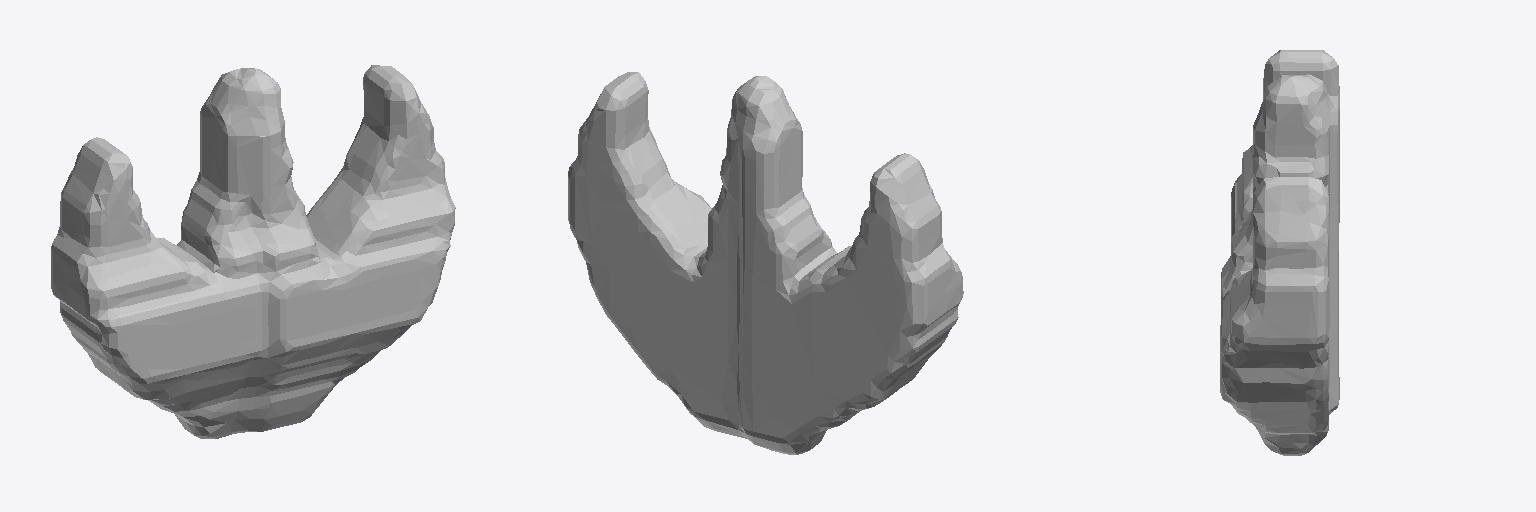
The model's file is profile.obj.
The picture shows the model from 3 angles: view 1: azimuth 30°, elevation 25°; view 2: azimuth 150°, elevation 25°; view 3: azimuth 270°, elevation 25°; orthographic projection.
Size of the model in its own units: 1.55 by 1.48 by 0.4405.